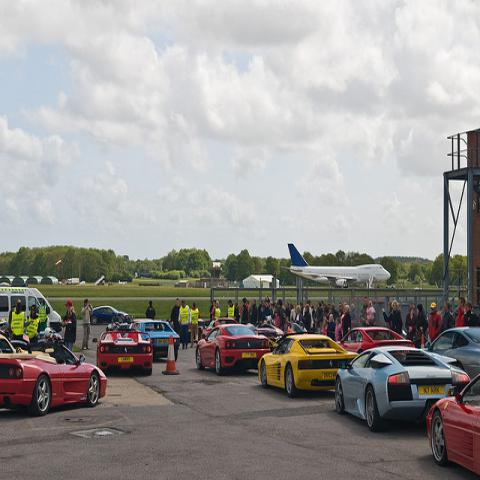car: (335, 344, 471, 434), (2, 326, 112, 419), (258, 333, 360, 397), (425, 372, 479, 476), (195, 324, 272, 376), (92, 312, 153, 374), (427, 326, 479, 381), (337, 327, 416, 356), (132, 320, 180, 362), (90, 304, 120, 326)
truck: (0, 281, 40, 323)
